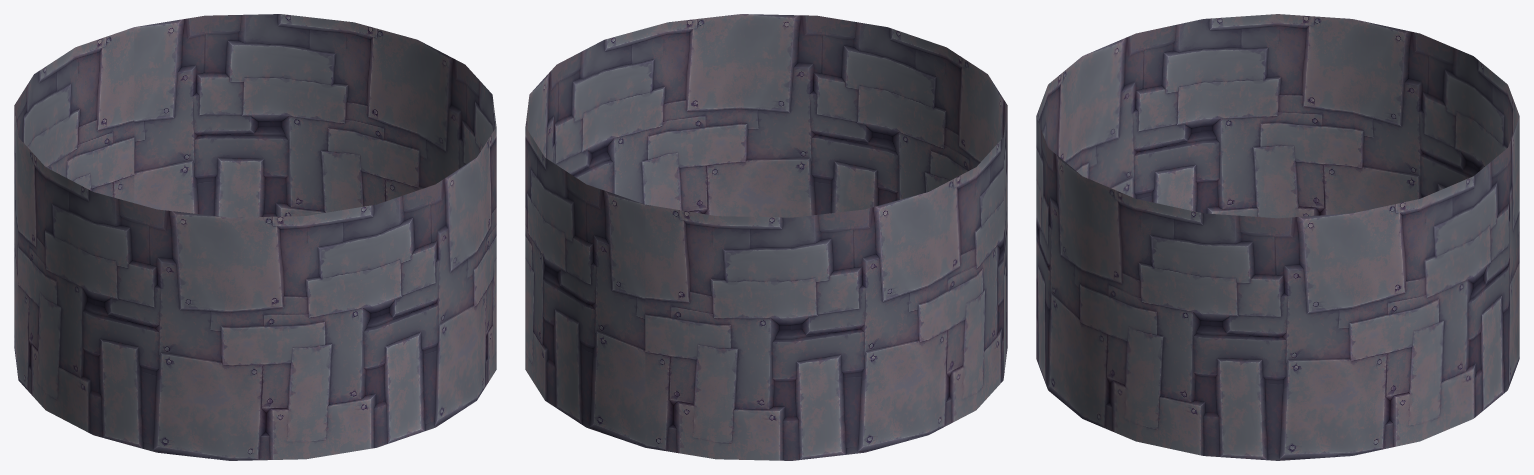
The model's file is mesh_paredCilindro.fbx.
The picture shows the model from 3 angles, left to right: view 1: azimuth 30°, elevation 25°; view 2: azimuth 150°, elevation 25°; view 3: azimuth 270°, elevation 25°; orthographic projection.
Parts seen in each view (by area): view 1: mesh_paredCilindro; view 2: mesh_paredCilindro; view 3: mesh_paredCilindro.
Part boxes in pixels (<box>): mesh_paredCilindro: <box>14,14,496,460</box>; mesh_paredCilindro: <box>525,14,1007,460</box>; mesh_paredCilindro: <box>1036,14,1519,460</box>.
Size of the model in its own units: 6423 by 3557 by 6423.
